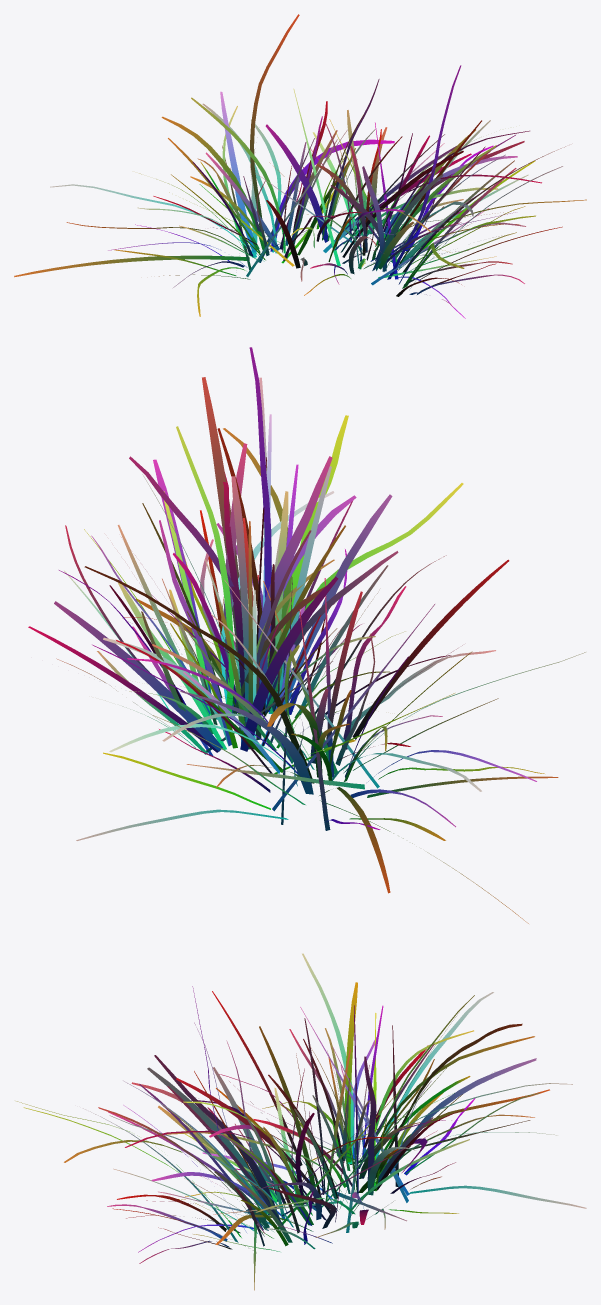
Rendered from Wild_Grass_vlkhcbxia_High_vlkhcbxia_VarF_LOD0.fbx.
The picture shows the model from 3 angles, top to bottom: view 1: azimuth 30°, elevation 25°; view 2: azimuth 150°, elevation 25°; view 3: azimuth 270°, elevation 25°; orthographic projection. The views are drawn at different scales.
Parts seen in each view (by area): view 1: _rmt9_VarF_LOD0; view 2: _rmt9_VarF_LOD0; view 3: _rmt9_VarF_LOD0.
Part boxes in pixels (x1,y1,x2,y2): _rmt9_VarF_LOD0: (14,14,586,318); _rmt9_VarF_LOD0: (28,347,585,923); _rmt9_VarF_LOD0: (16,953,586,1290).
Size of the model in its own units: 28.92 by 15.65 by 28.78.
